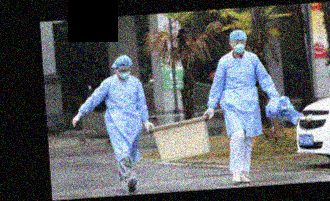with_mask: (231, 39, 245, 54), (116, 68, 131, 80)
